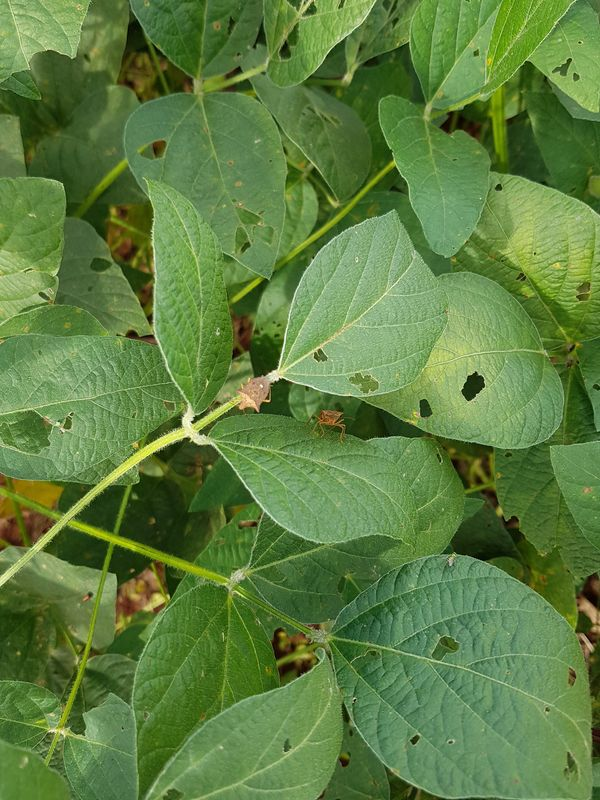Euschistus_heros_adulto: (230, 370, 277, 417), (306, 405, 353, 447)
